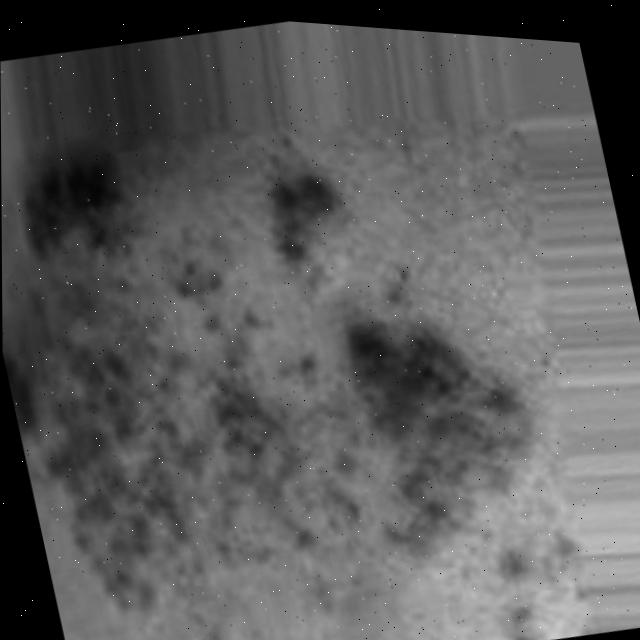Shingles: (0, 67, 599, 640)
